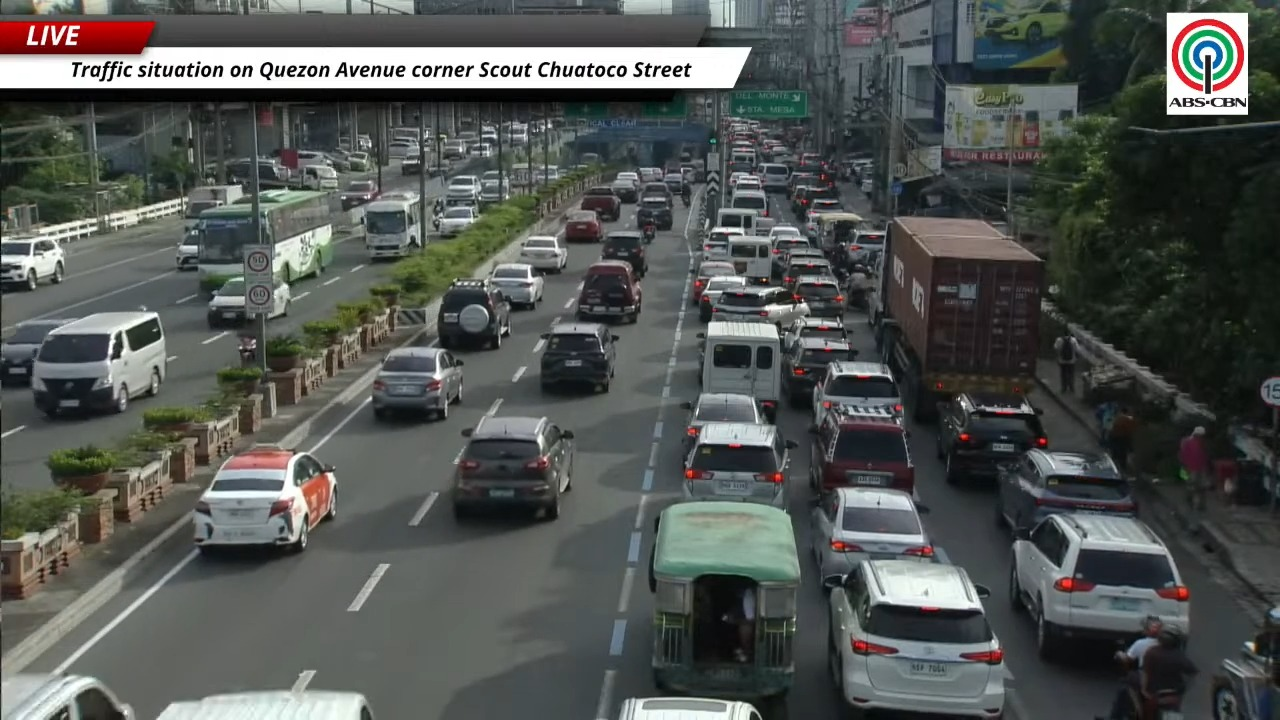bus: (260, 190, 333, 282), (363, 194, 426, 259)
car: (823, 559, 1005, 717), (1008, 513, 1189, 659), (192, 444, 337, 552), (451, 415, 574, 519), (996, 449, 1137, 528), (811, 487, 934, 577), (938, 391, 1048, 483), (684, 422, 796, 510), (809, 406, 914, 495), (371, 346, 463, 420), (681, 393, 766, 465), (540, 322, 618, 391), (812, 362, 902, 420), (437, 278, 510, 349), (782, 337, 857, 406), (0, 318, 73, 384), (575, 260, 642, 321), (983, 0, 1068, 46), (712, 286, 808, 326), (0, 239, 65, 290), (617, 696, 760, 719), (488, 263, 544, 309), (698, 275, 747, 322), (792, 276, 845, 317), (601, 230, 647, 277), (690, 260, 736, 304), (772, 231, 812, 278), (782, 253, 834, 289), (784, 317, 848, 346), (519, 235, 567, 273), (580, 185, 622, 222), (805, 199, 844, 238), (700, 227, 744, 261), (846, 229, 886, 263), (636, 195, 673, 230), (564, 209, 603, 242), (437, 206, 478, 237), (340, 180, 378, 209), (175, 229, 199, 270), (267, 278, 291, 318), (791, 178, 815, 217), (640, 181, 673, 208), (759, 162, 789, 191), (610, 173, 639, 203), (479, 181, 508, 210), (787, 172, 815, 198), (446, 175, 481, 193), (401, 146, 422, 175), (734, 175, 762, 194), (388, 140, 417, 158), (347, 151, 371, 171), (727, 171, 748, 193), (769, 225, 801, 239), (663, 172, 685, 192), (639, 168, 662, 182), (859, 178, 874, 196)
motorcycle: (1210, 607, 1279, 719), (1116, 650, 1183, 719), (846, 264, 870, 309), (238, 335, 256, 367), (642, 222, 656, 243), (681, 193, 690, 208)
truck: (873, 217, 1044, 421), (184, 184, 243, 231)
